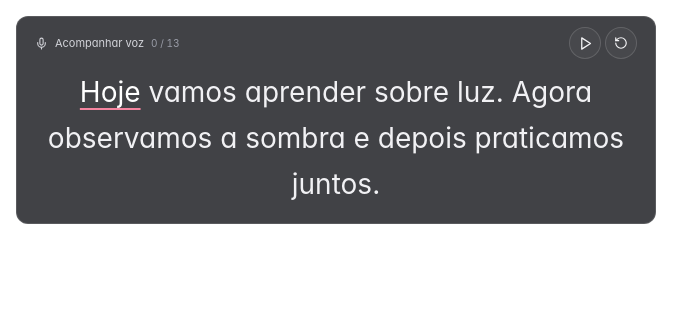
Test: teleprompter real com reconhecimento na fronteira do navegador › áudio remoto sem pista local explica a leitura automática sem abrir outro microfone
The image size is (673, 310).
Later steps or results of the test are not shown.
Click the button named "Ensaiar leitura" at (585, 43), box [569,27,601,59]
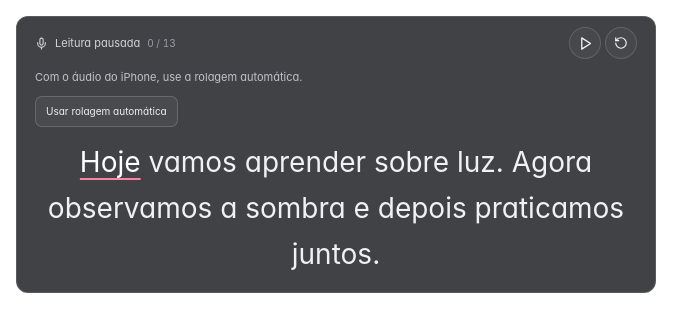
Expected: the text "Com o áudio do iPhone" is shown, [35,70,302,84]
Expected: the button "Usar rolagem automática" is shown, [35,96,178,127]
